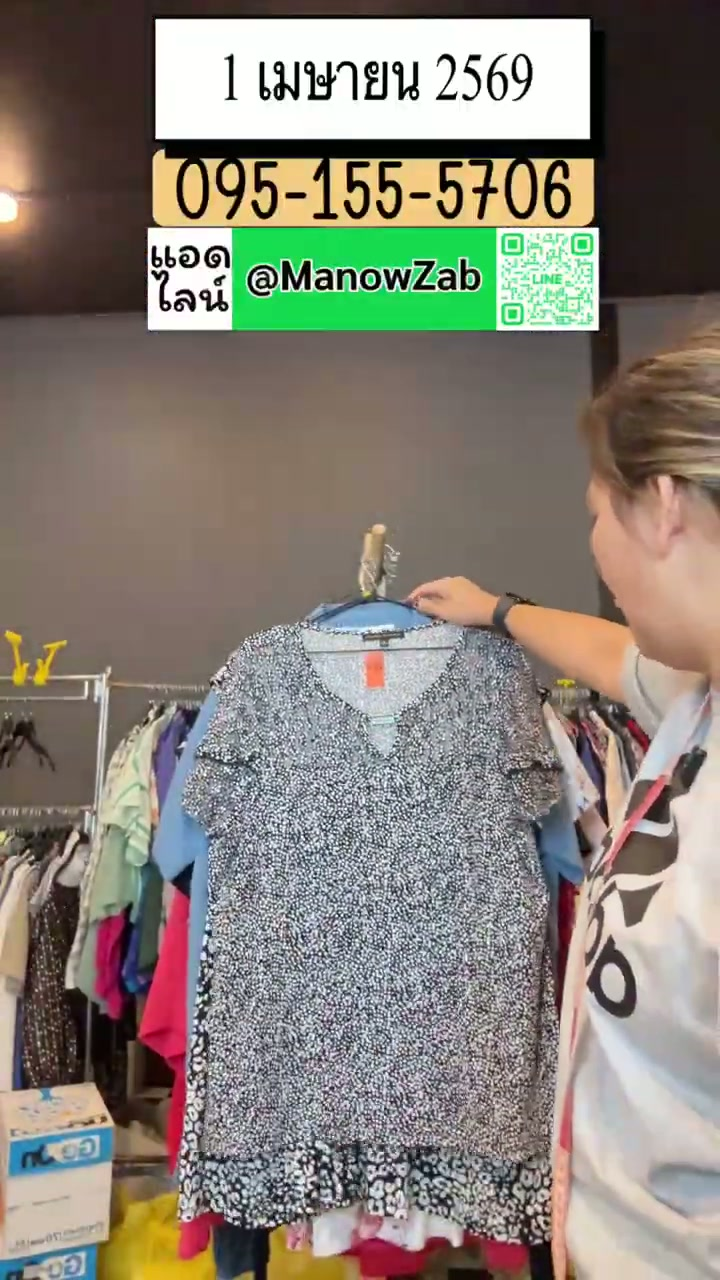display_shirt: (180, 617, 563, 1251)
